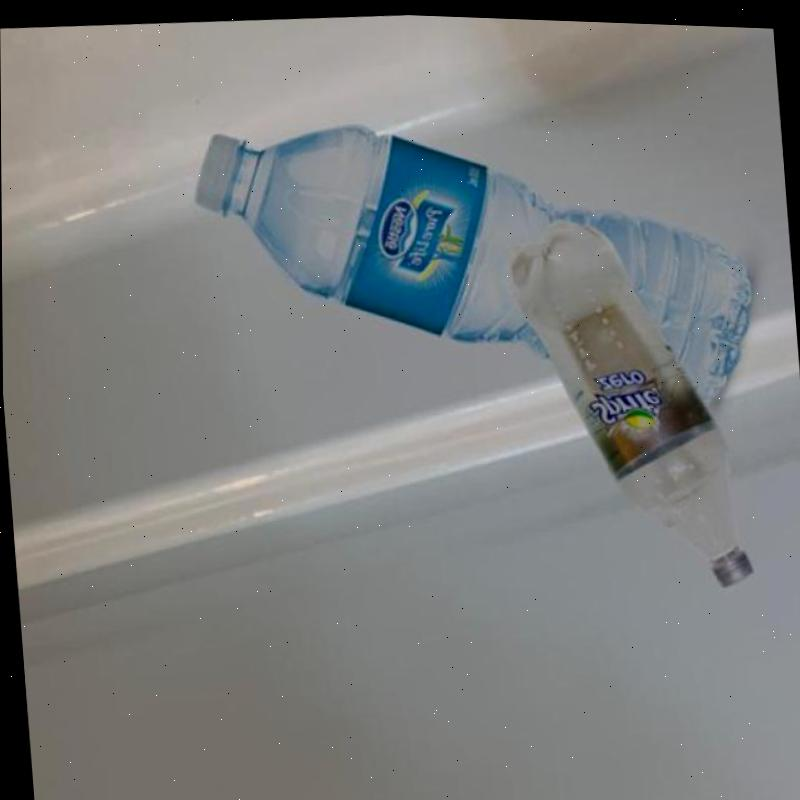botella: (191, 90, 761, 438), (504, 206, 755, 597)
